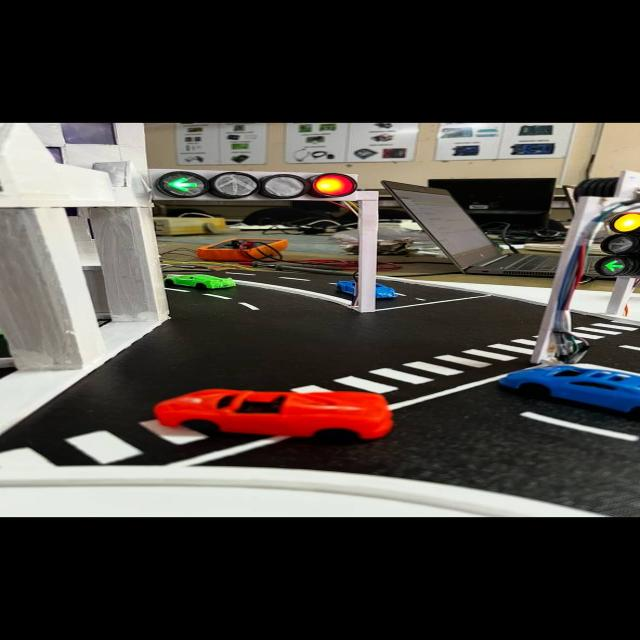car: (148, 380, 424, 444), (487, 349, 639, 417), (162, 268, 240, 294), (337, 277, 394, 301)
